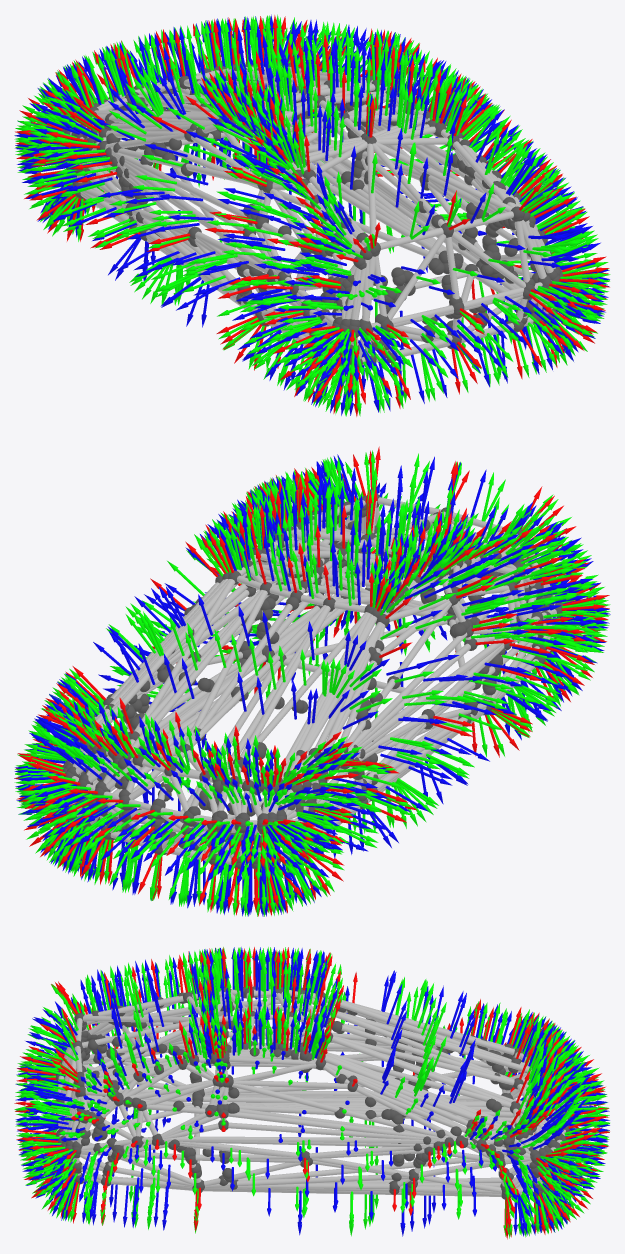
File: robbins_car2.gltf
The picture shows the model from 3 angles, top to bottom: view 1: azimuth 30°, elevation 25°; view 2: azimuth 150°, elevation 25°; view 3: azimuth 270°, elevation 25°; orthographic projection. The views are drawn at different scales.
Bounding box in the file's own units: 0.5544 × 0.4191 × 1.04.
